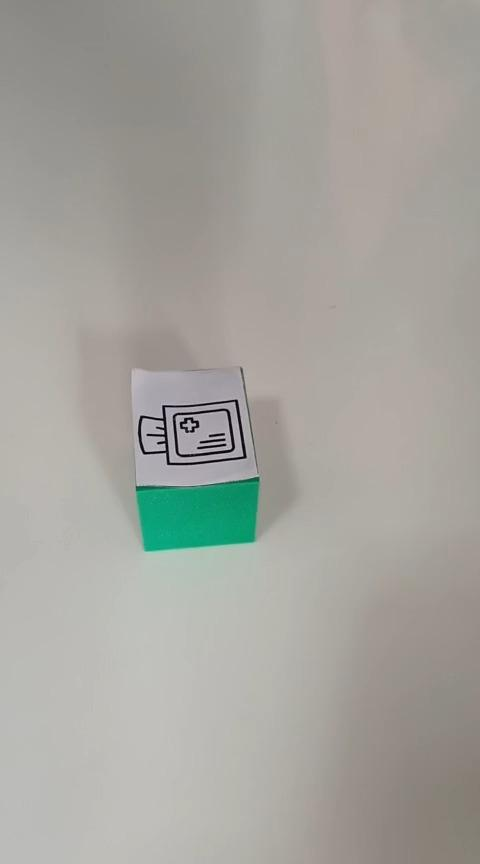Gauze: (129, 364, 260, 552)
